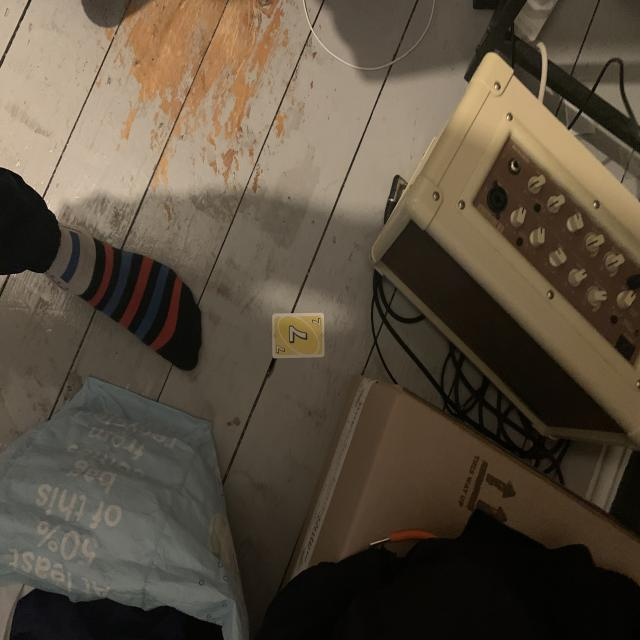lyellow-7: (310, 315, 322, 329)
